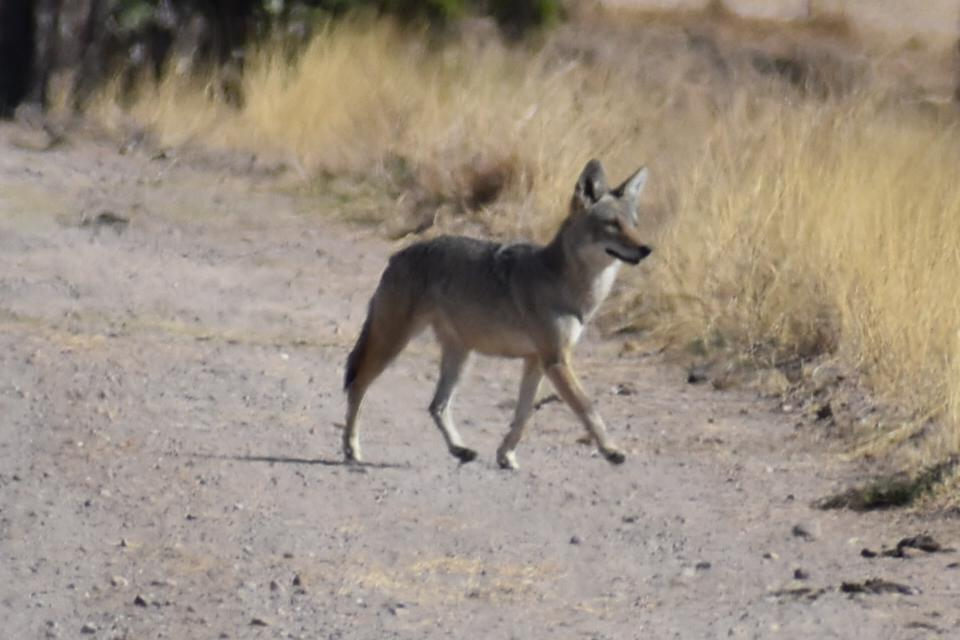Coyote: (334, 160, 659, 471)
